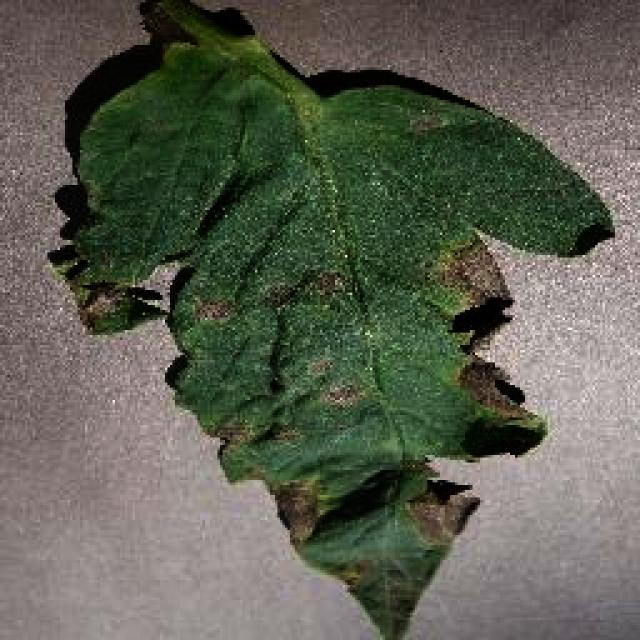Tomato Early blight leaf: (62, 47, 620, 640)
